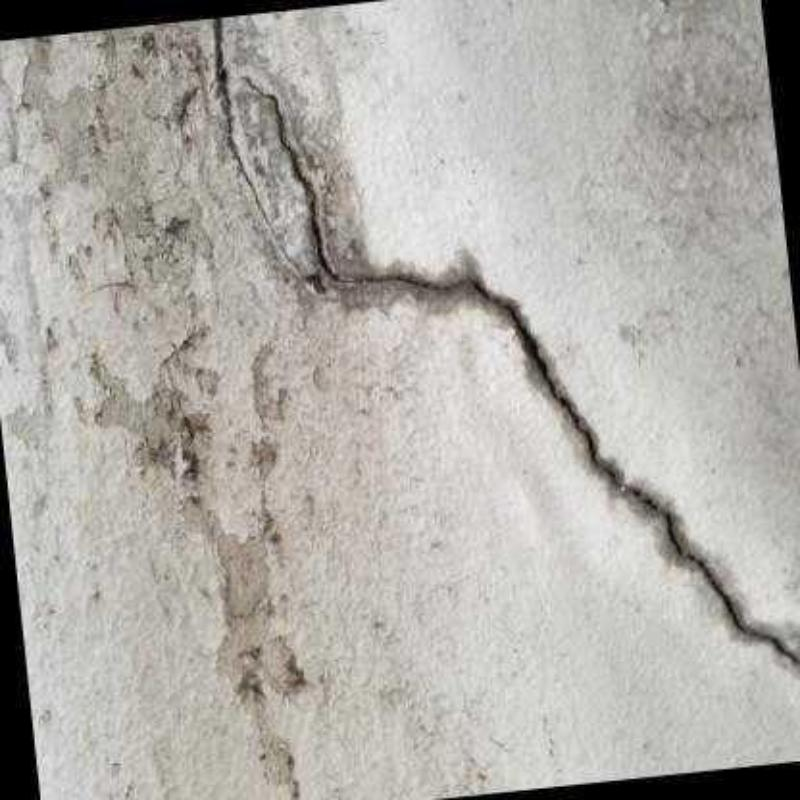crack: (240, 77, 798, 670), (215, 19, 306, 277), (158, 337, 194, 438), (96, 283, 135, 290)
